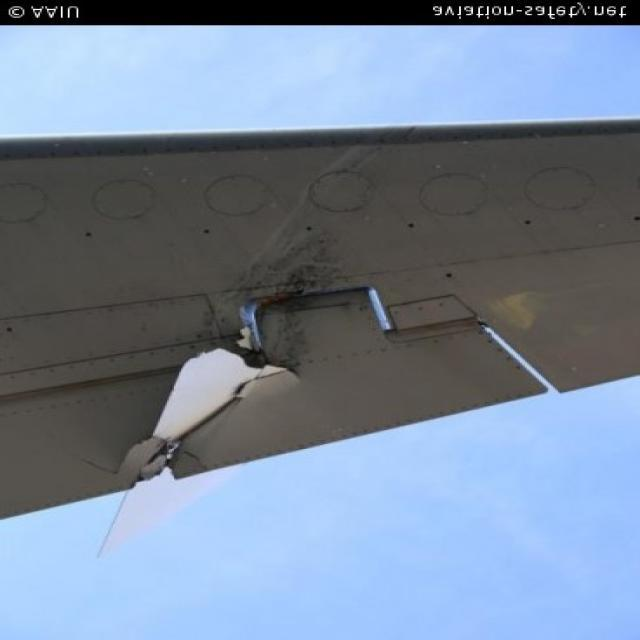crack: (116, 348, 302, 492)
